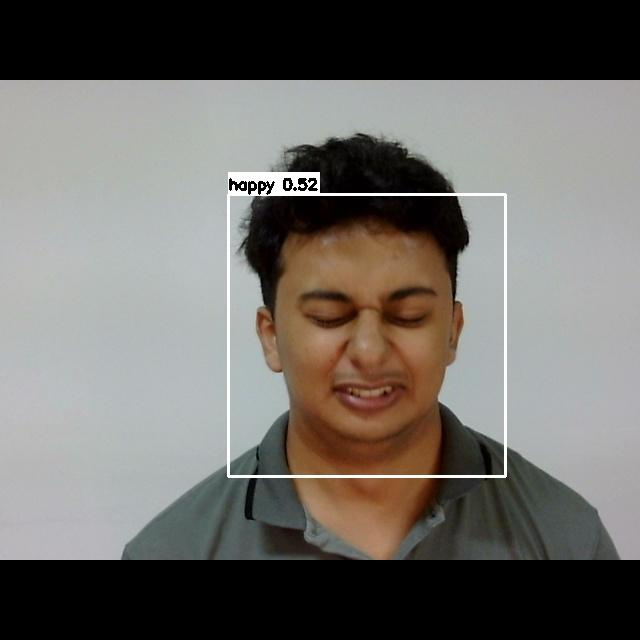Disgust: (259, 254, 454, 426)
